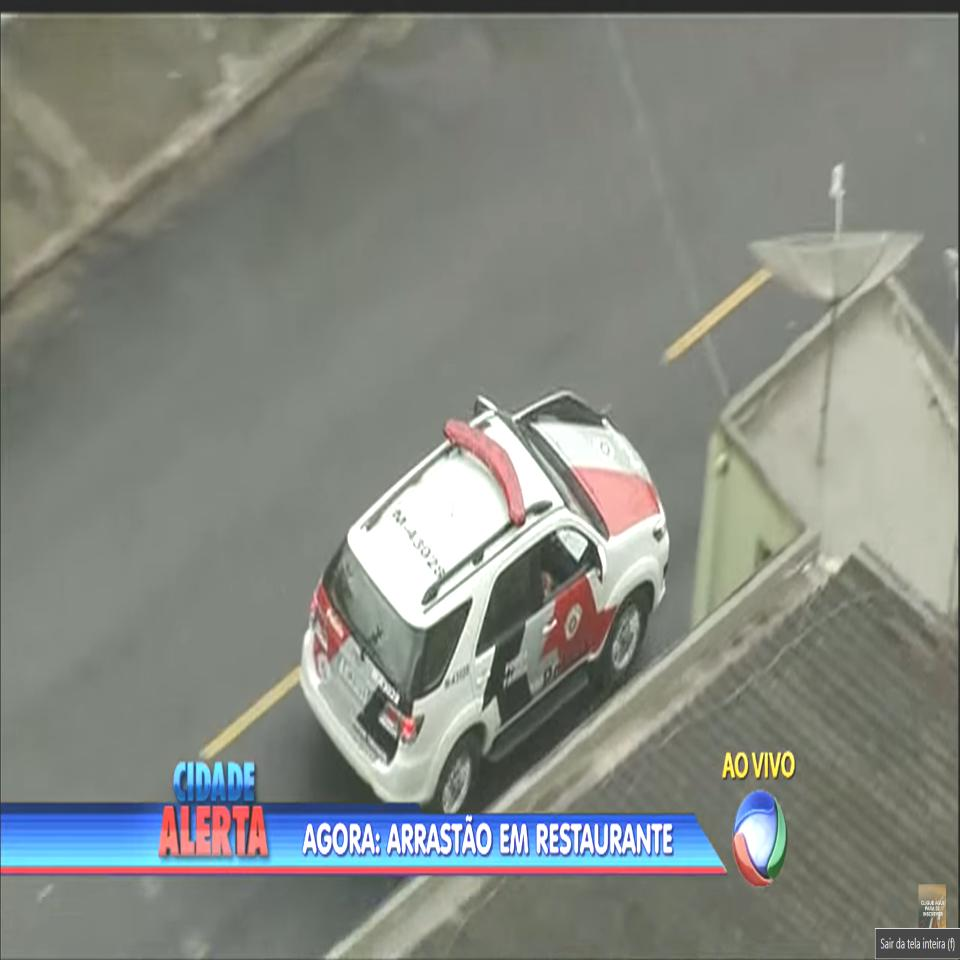viatura: (292, 353, 686, 821)
